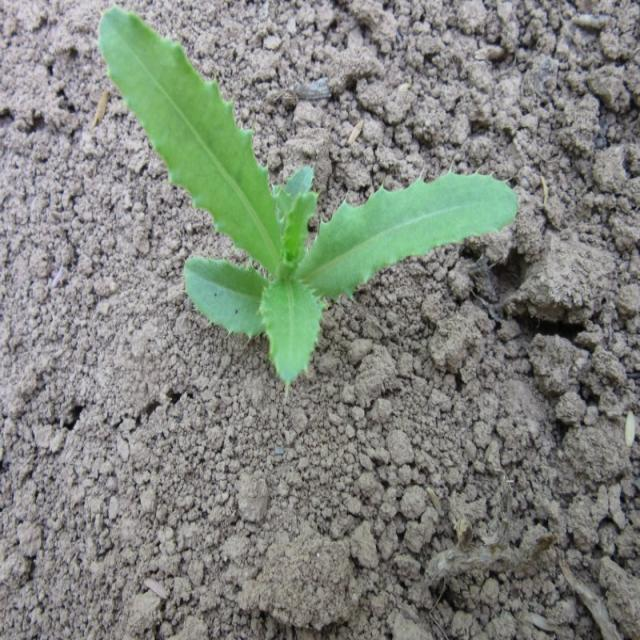cs: (95, 0, 521, 404)
